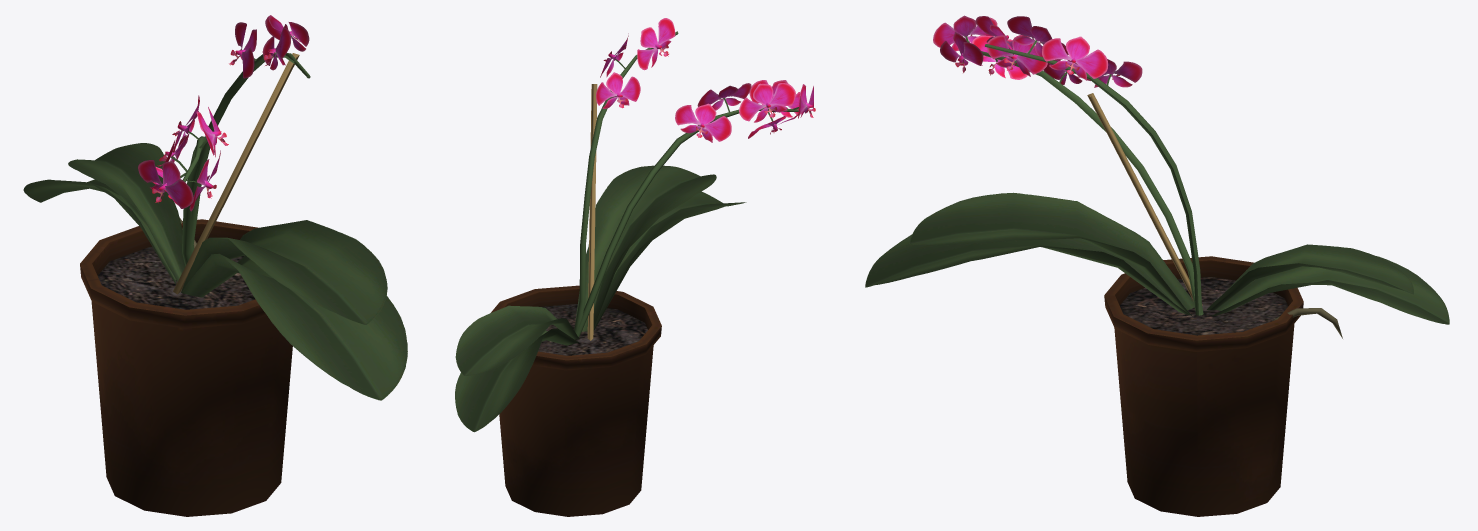
The model's file is Orchid_Pink_02.dae.
3 renders of one model, left to right at view 1: azimuth 30°, elevation 25°; view 2: azimuth 150°, elevation 25°; view 3: azimuth 270°, elevation 25°, orthographic. The views are drawn at different scales.
Visible parts, largest first — view 1: polySurface1874; view 2: polySurface1874; view 3: polySurface1874.
Part boxes in pixels (x1,y1,x2,y2): polySurface1874: [23, 15, 407, 516]; polySurface1874: [455, 18, 815, 516]; polySurface1874: [865, 15, 1449, 516].
Size of the model in its own units: 0.7049 by 1.31 by 1.58.
Materials: 1 (1 with a texture image).
